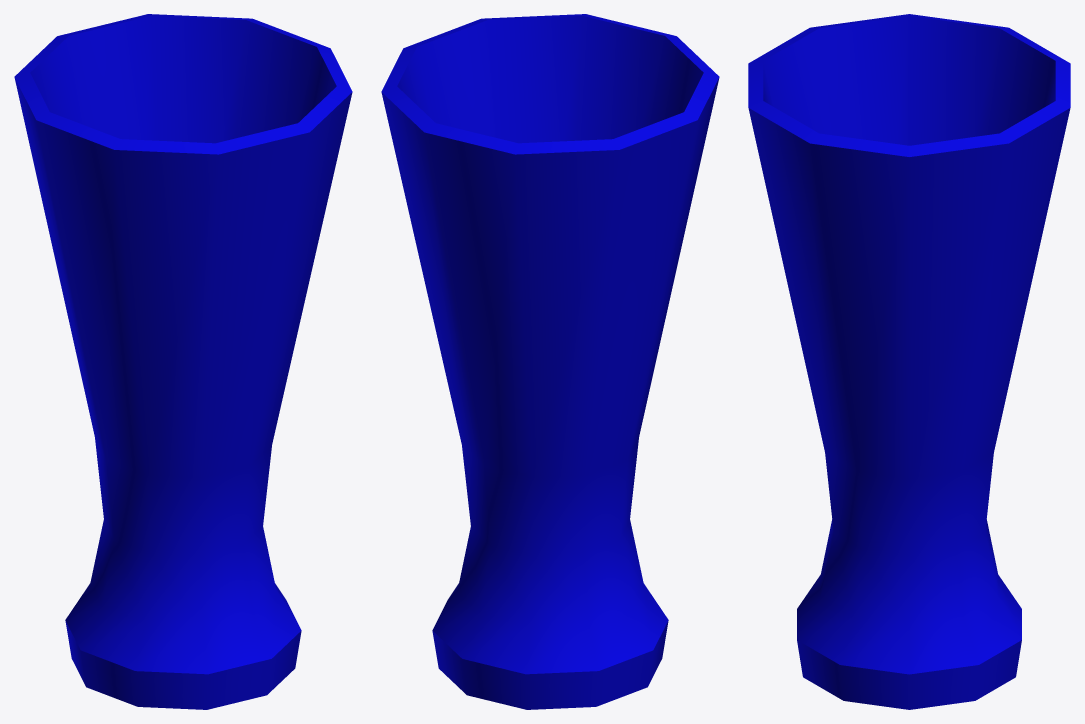
Rendered from Glass_Pilsner.fbx.
3 views of the same model, side by side, from view 1: azimuth 30°, elevation 25°; view 2: azimuth 150°, elevation 25°; view 3: azimuth 270°, elevation 25° (orthographic).
Parts seen in each view (by area): view 1: Glass_Pilsner; view 2: Glass_Pilsner; view 3: Glass_Pilsner.
Part boxes in pixels (x1,y1,x2,y2): Glass_Pilsner: (14,14,352,709); Glass_Pilsner: (381,14,719,709); Glass_Pilsner: (748,14,1070,709).
Bounding box in the file's own units: 39.94 × 75.67 × 37.98.
